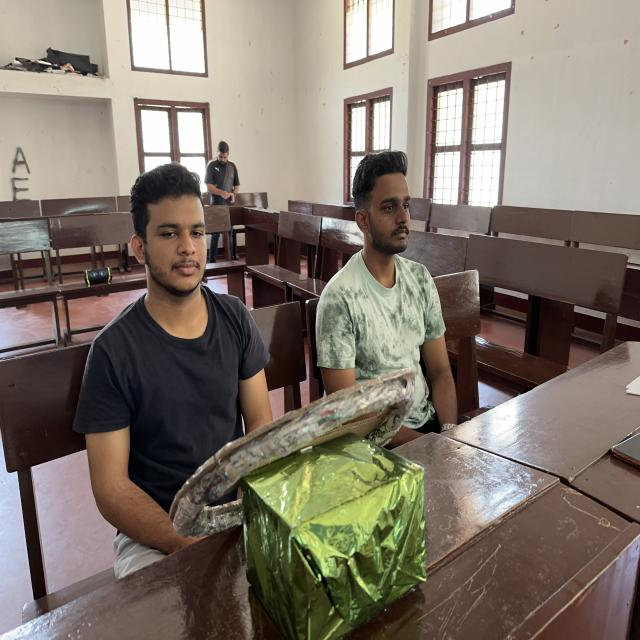Helmet: (75, 289, 290, 556), (314, 256, 456, 458)
